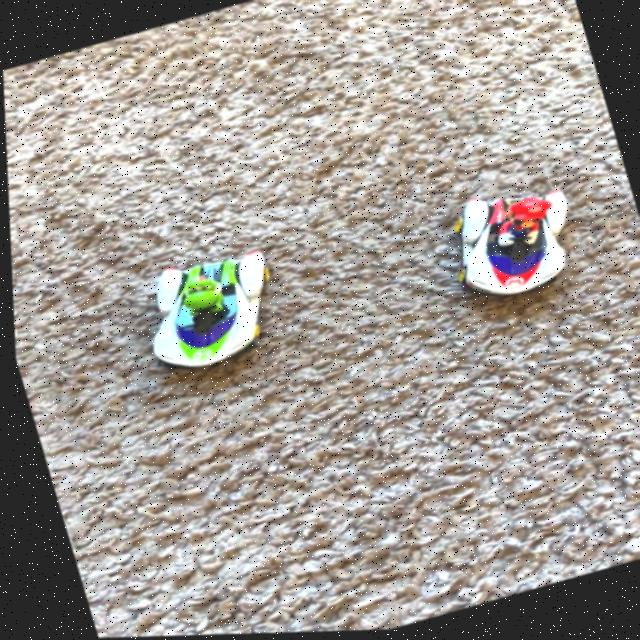mario: (433, 163, 604, 317)
yoshi: (114, 229, 307, 391)
